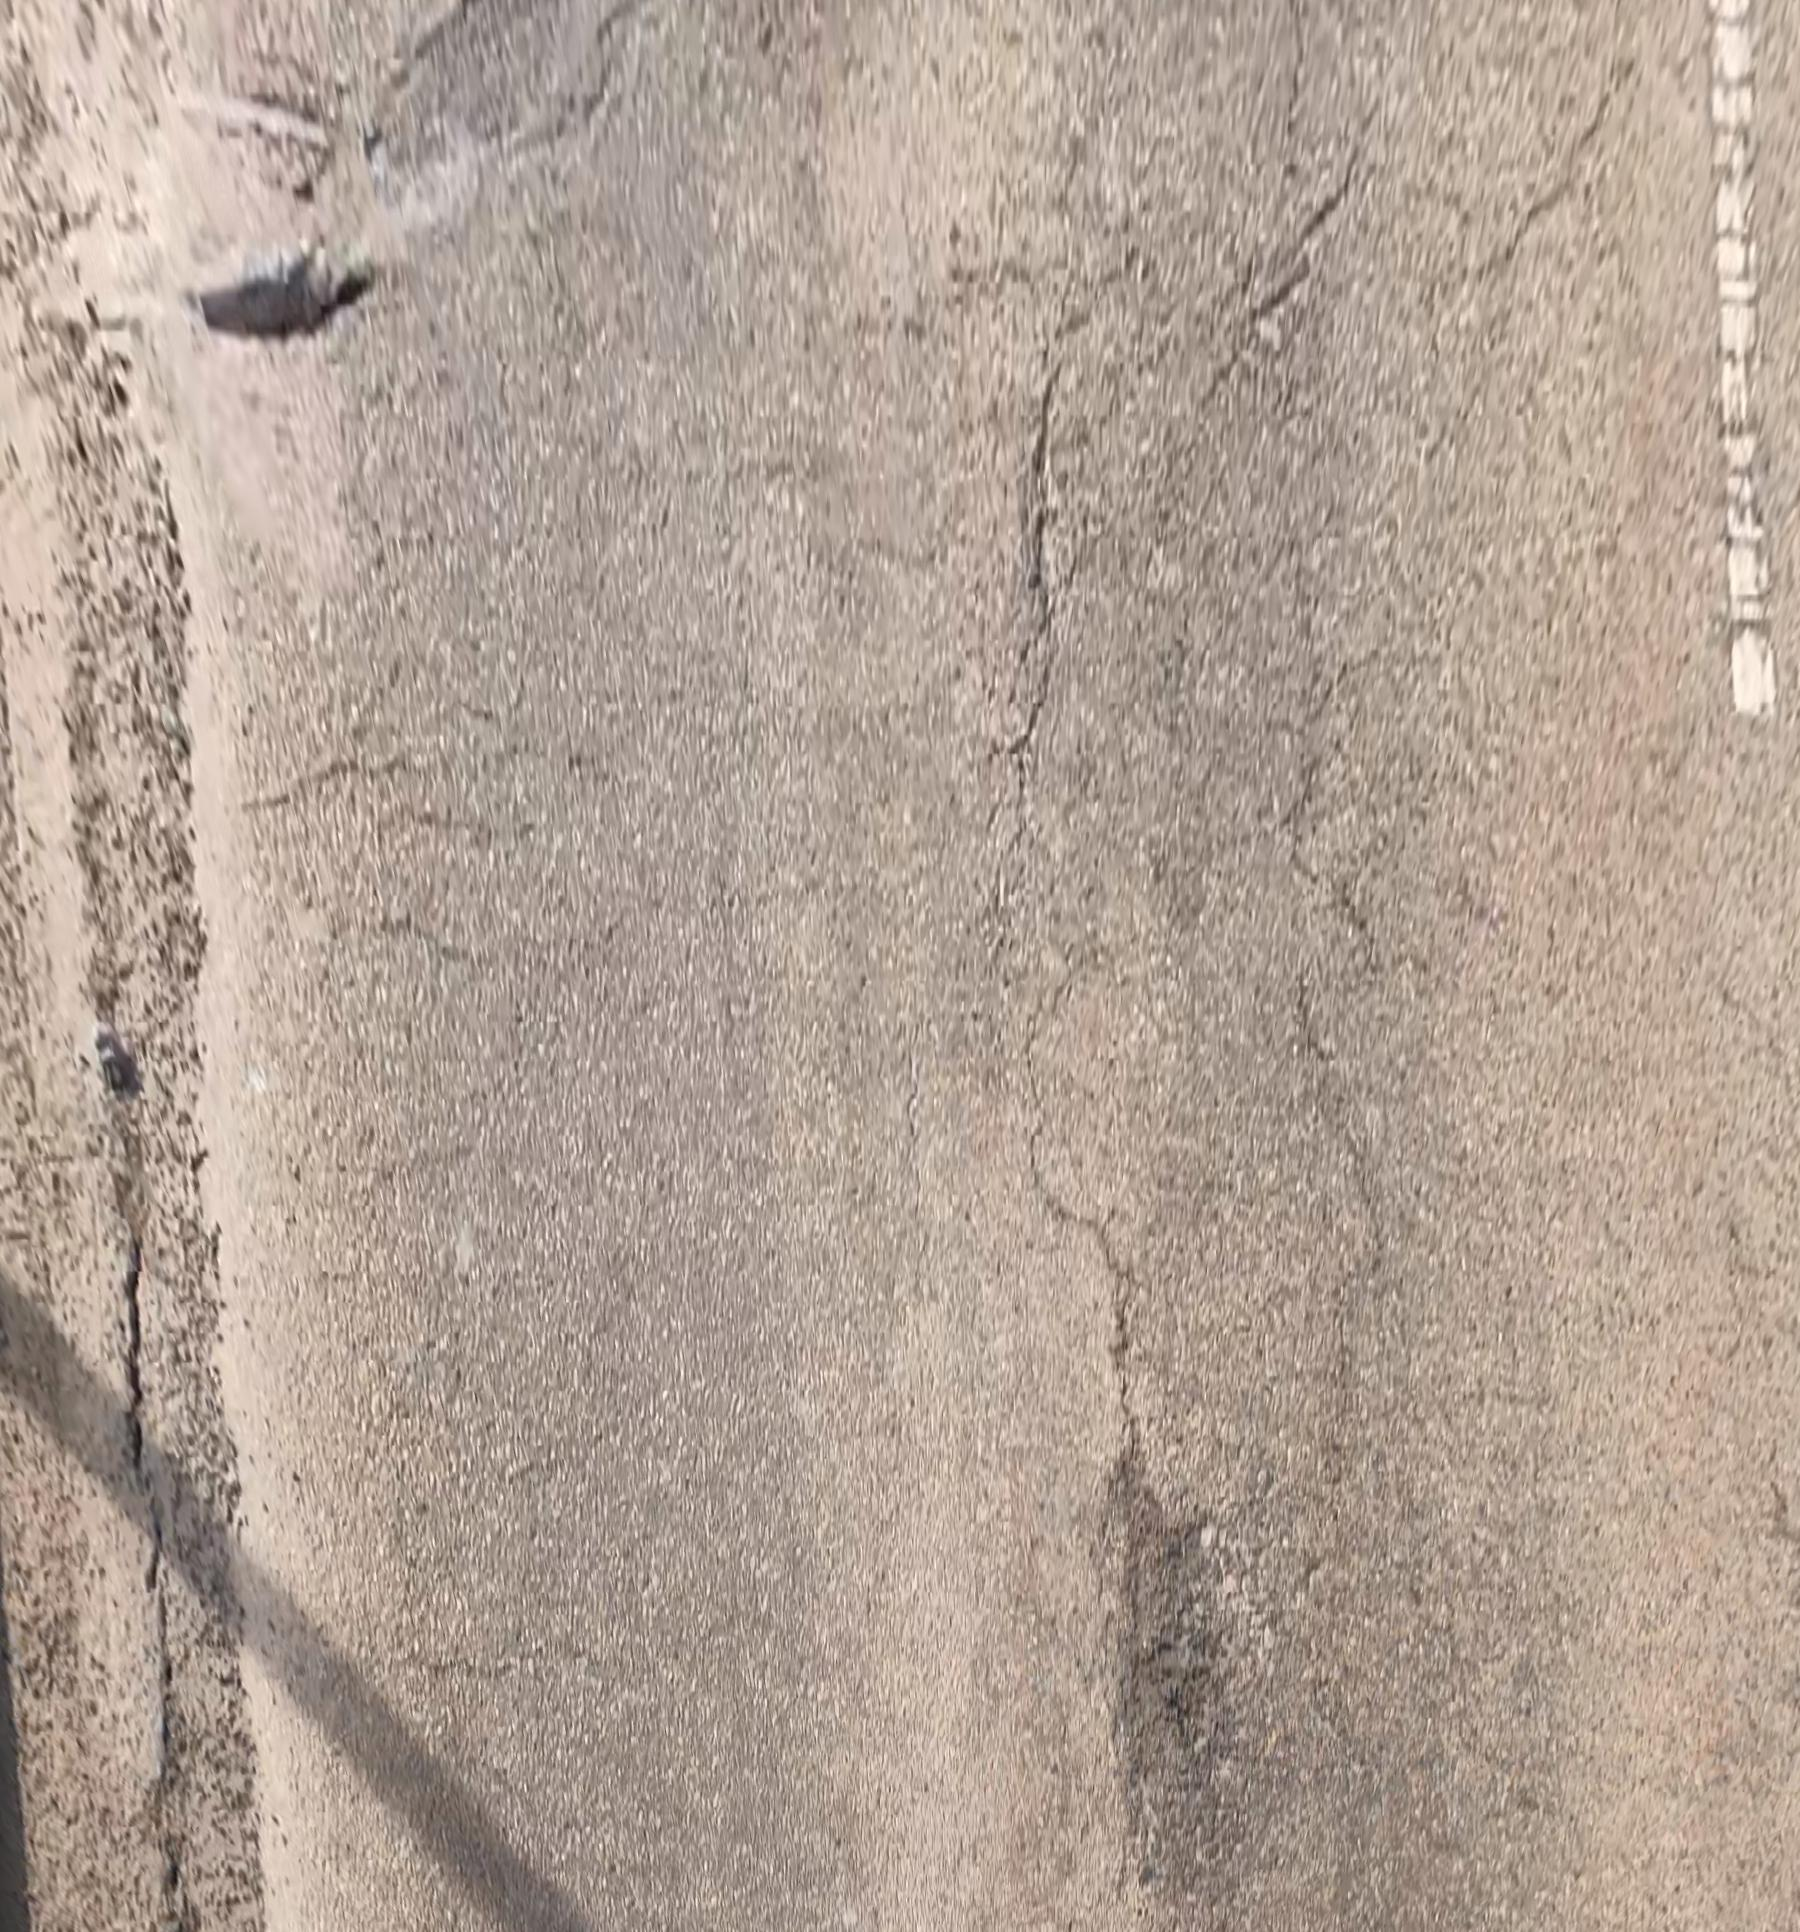pothole: (1088, 1460, 1279, 1930), (189, 245, 360, 343)
